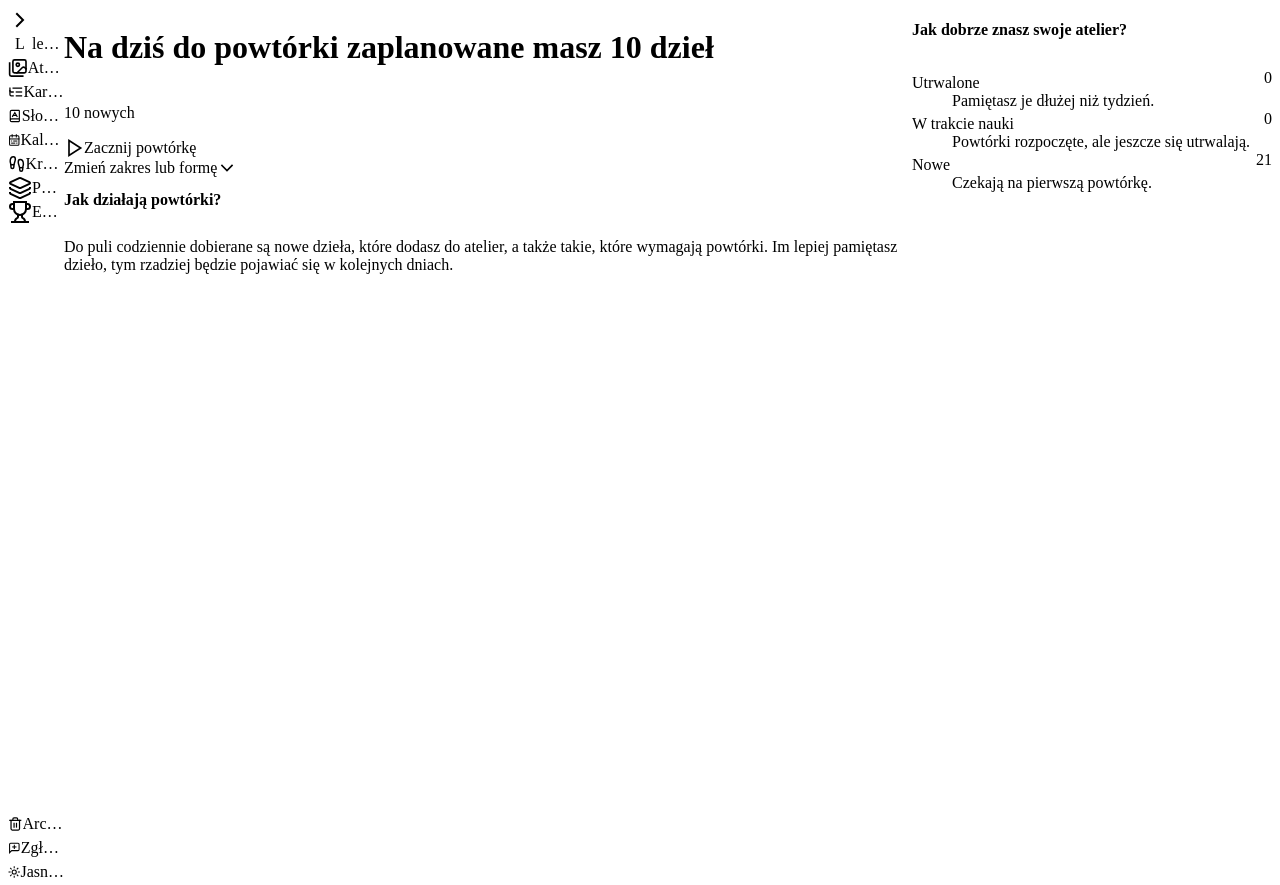
Test: review page › says when a session could not be started and stays on the start
Click the button "Zacznij powtórkę" at coordinates (130, 148), box left=64, top=138, right=196, bottom=158
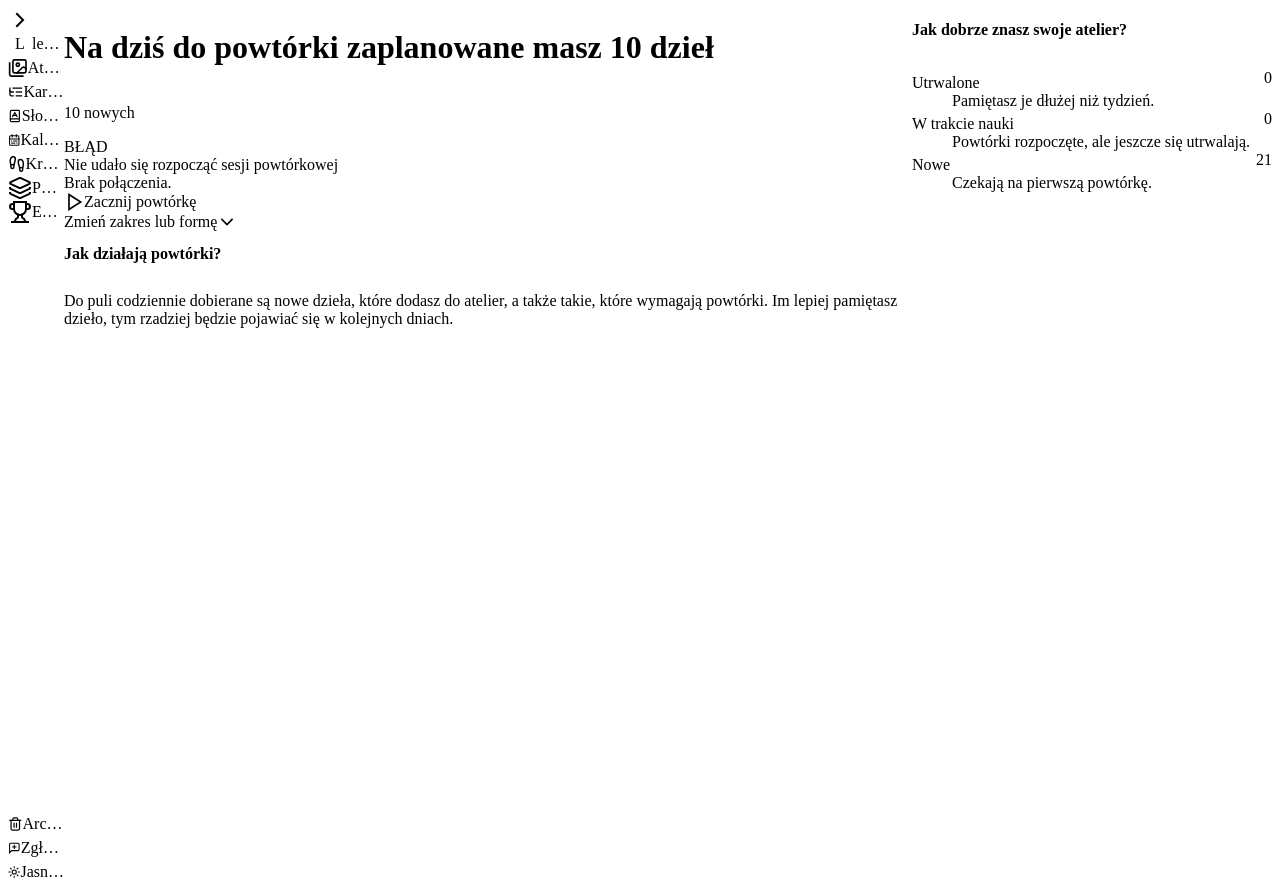
Expected: the button "Zacznij powtórkę" is enabled, left=64, top=192, right=196, bottom=212
Expected: the text "Nie udało się rozpocząć sesji powtórkowej" is shown, left=64, top=156, right=338, bottom=173
